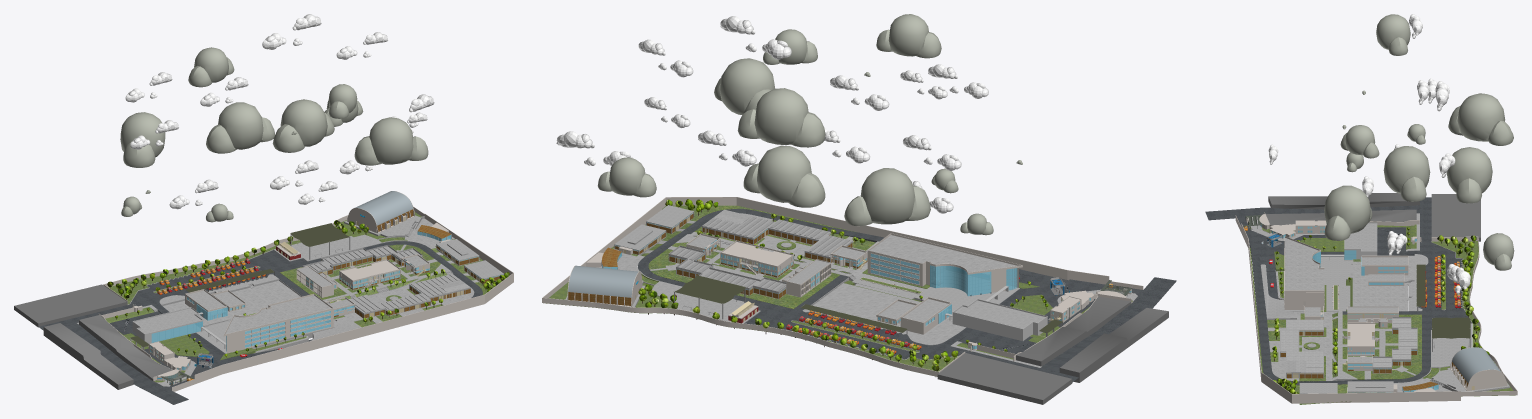
File: tecsup-2.glb
3 views of the same model, side by side, from view 1: azimuth 30°, elevation 25°; view 2: azimuth 150°, elevation 25°; view 3: azimuth 270°, elevation 25° (orthographic). The views are drawn at different scales.
Parts seen in each view (by area): view 1: muros dep002, Object083, Pista, manzaneo, Line069, Cloud_2.007, Cloud_2.009, Cloud_2.001, Arbol 053, Cloud_2.008, vidrio001, tech come (+13 smaller); view 2: muros dep002, Object083, Pista, manzaneo, Line069, Cloud_2.001, Cloud_2.008, Cloud_2.009, Arbol 053, vidrio001, Cloud_2.007, tech come (+14 smaller); view 3: muros dep002, Object083, Pista, Line069, manzaneo, Cloud_2.008, Cloud_2.007, Cloud_2.001, Cloud_2.009, Arbol 053, rashell005, Cloud_2.006 (+11 smaller).
Part boxes in pixels (left/top/right/bottom): muros dep002: left=77, top=215, right=503, bottom=386; Object083: left=98, top=191, right=513, bottom=391; Pista: left=38, top=241, right=482, bottom=404; manzaneo: left=14, top=284, right=172, bottom=389; Line069: left=105, top=212, right=505, bottom=382; Cloud_2.007: left=354, top=117, right=428, bottom=165; Cloud_2.009: left=206, top=102, right=274, bottom=153; Cloud_2.001: left=272, top=99, right=334, bottom=152; Arbol 053: left=107, top=220, right=509, bottom=357; Cloud_2.008: left=120, top=112, right=165, bottom=167; vidrio001: left=187, top=259, right=429, bottom=351; tech come: left=318, top=209, right=499, bottom=318; muros dep002: left=565, top=205, right=1137, bottom=367; Object083: left=542, top=197, right=1143, bottom=376; Pista: left=638, top=209, right=1176, bottom=382; manzaneo: left=937, top=296, right=1168, bottom=404; Line069: left=546, top=205, right=1132, bottom=376; Cloud_2.001: left=737, top=88, right=825, bottom=147; Cloud_2.008: left=844, top=168, right=930, bottom=226; Cloud_2.009: left=743, top=145, right=825, bottom=207; Arbol 053: left=638, top=199, right=1048, bottom=371; vidrio001: left=703, top=239, right=1017, bottom=349; Cloud_2.007: left=714, top=58, right=775, bottom=114; tech come: left=568, top=214, right=867, bottom=305; muros dep002: left=1247, top=213, right=1509, bottom=393; Object083: left=1235, top=212, right=1517, bottom=403; Pista: left=1205, top=197, right=1471, bottom=385; Line069: left=1249, top=223, right=1515, bottom=404; manzaneo: left=1265, top=193, right=1480, bottom=241; Cloud_2.008: left=1448, top=93, right=1513, bottom=145; Cloud_2.007: left=1324, top=185, right=1372, bottom=240; Cloud_2.001: left=1383, top=146, right=1430, bottom=201; Cloud_2.009: left=1446, top=147, right=1492, bottom=203; Arbol 053: left=1272, top=227, right=1489, bottom=393; rashell005: left=1416, top=264, right=1470, bottom=338; Cloud_2.006: left=1376, top=14, right=1410, bottom=55.
Size of the model in its own units: 322 by 210 by 207.
276 materials, 80 textured.
